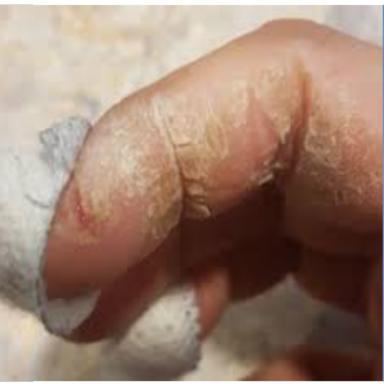eczema: (49, 20, 381, 254)
